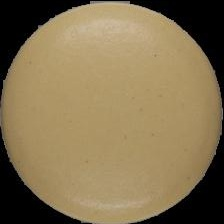47335-580: (0, 0, 224, 224)
